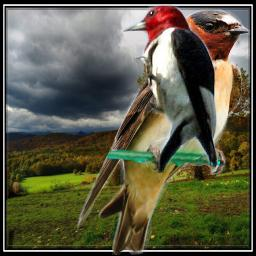Swallow: (77, 9, 250, 255)
Woodpecker: (119, 4, 219, 173)
